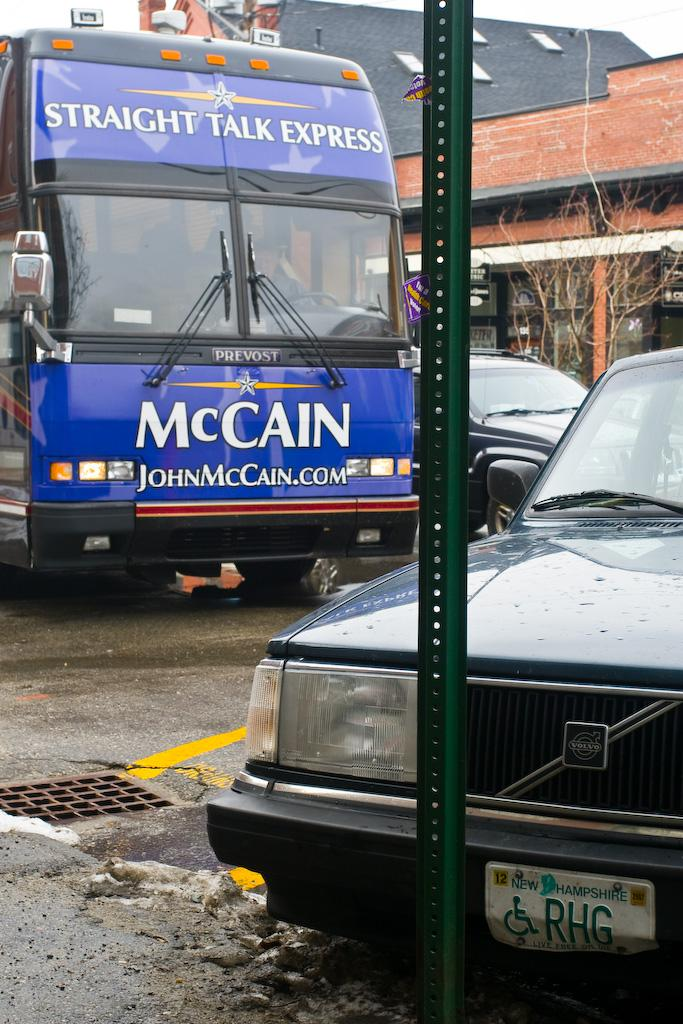Bus: (0, 26, 422, 597)
